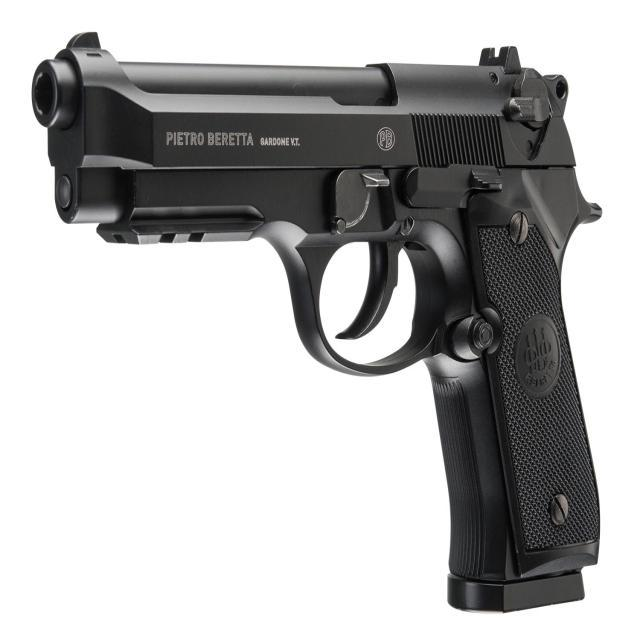Pistol: (23, 24, 617, 624)
